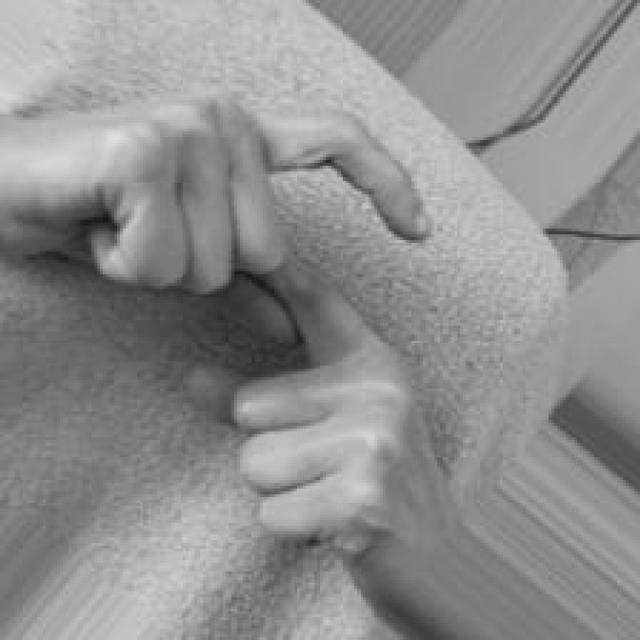S: (0, 72, 447, 560)
